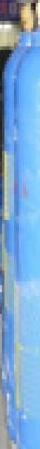cylinder: (0, 1, 40, 449)
